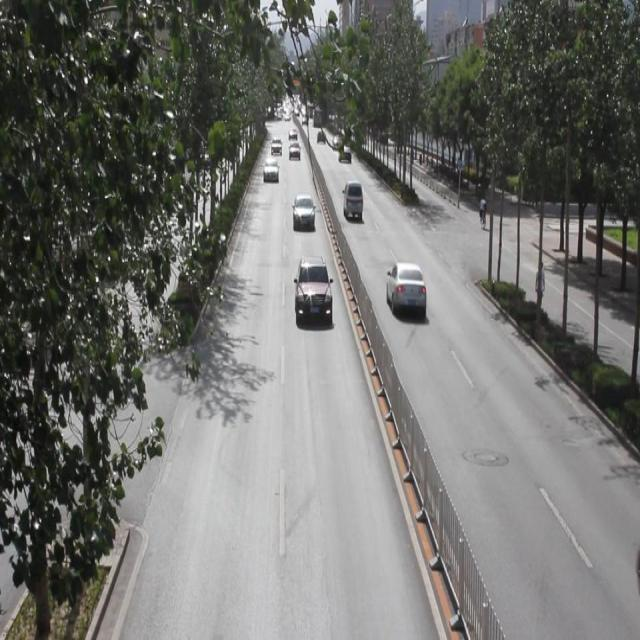car: (293, 254, 333, 315), (385, 260, 426, 318), (292, 192, 315, 228), (262, 154, 278, 180), (339, 141, 354, 161), (270, 133, 283, 154), (288, 138, 300, 159), (332, 132, 343, 150), (316, 125, 326, 143), (288, 125, 298, 140)
truck: (342, 177, 363, 215)
